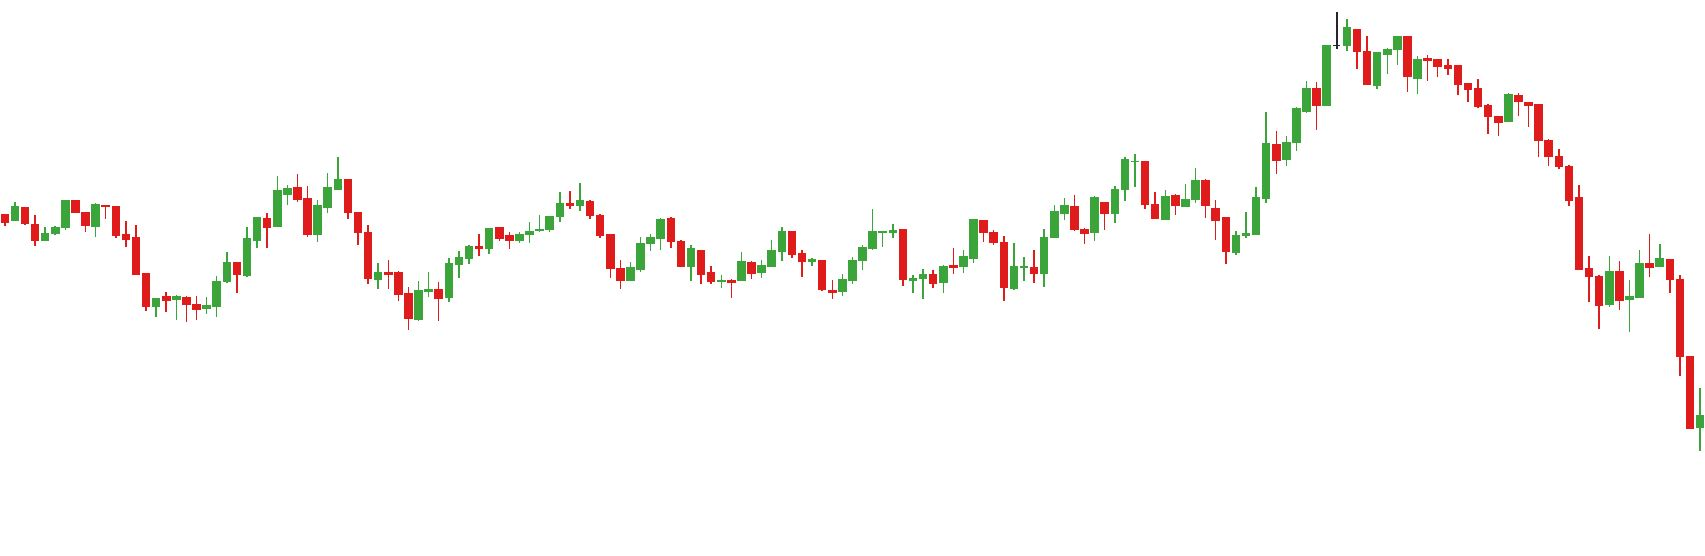buy: (1150, 182, 1261, 261), (920, 232, 1020, 307)
sell: (271, 145, 354, 227)
